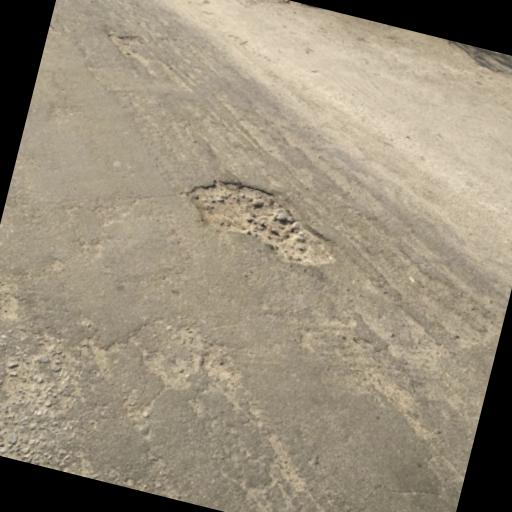pothole: (174, 167, 352, 273), (99, 24, 154, 66)
